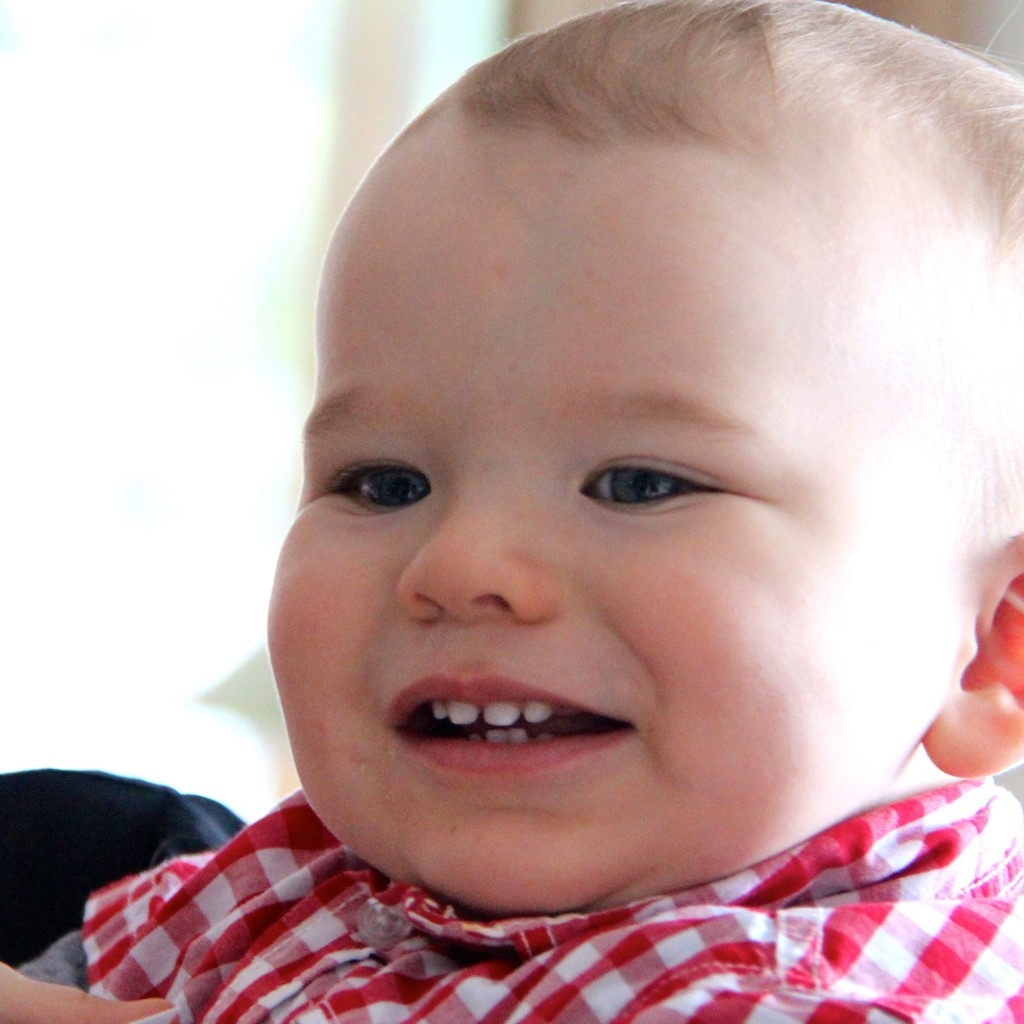sin_mascara: (258, 41, 1024, 906)
